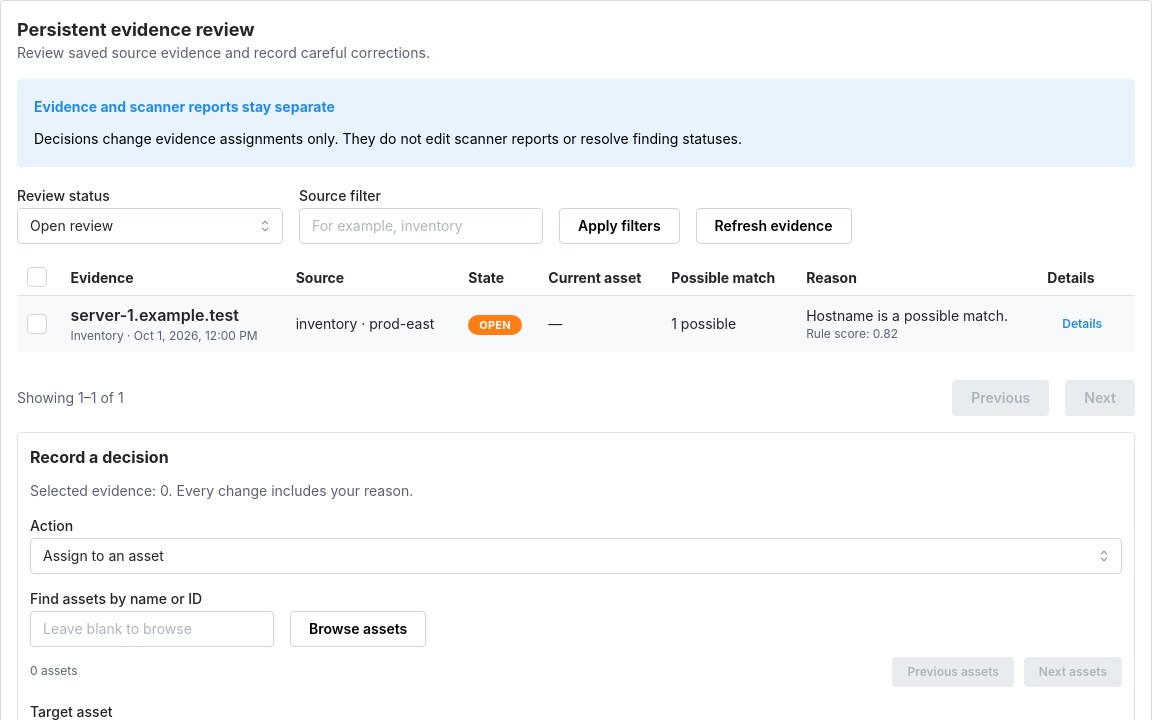
Test: PersistentReconciliation › shows paged evidence and opens provenance and assignment history
expect the text "server-1.example.test" is shown: met, box [70,305,239,325]
expect the text "Hostname is a possible match." is shown: met, box [806,307,1008,324]
What coordinates should you click on to do the following:
click the button with aria-label "Details for server-1.example.test"
I would click on:
 (1082, 324)
Its box is [1047,309,1117,339].
(page scrolled)
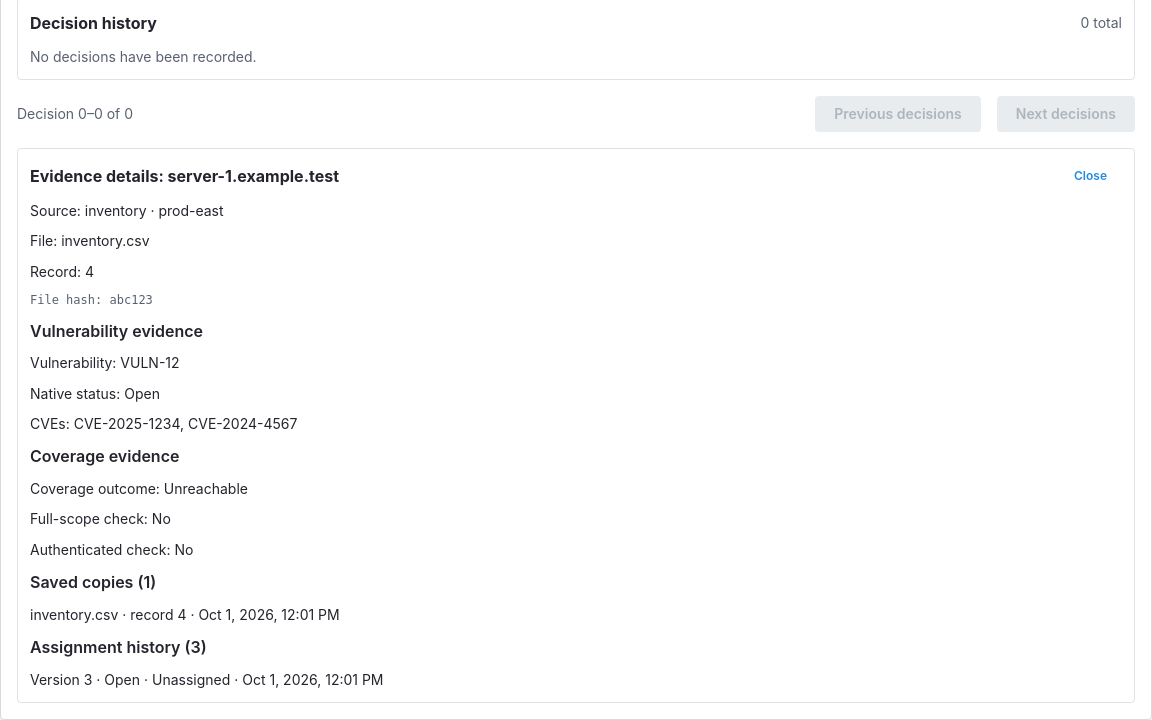
expect the text "File: inventory.csv" is shown: met, box [30,232,150,249]
expect the text "Version 3 · Open · Unassigned · Oct 1, 2026, 12:01 PM" is shown: met, box [30,671,384,688]
expect the text "Record: 4" is shown: met, box [30,263,94,280]
